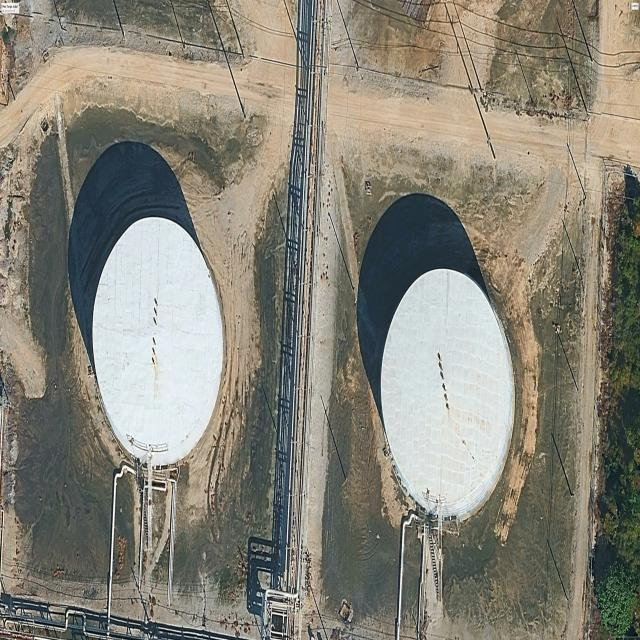Oil Rafinery: (381, 269, 514, 519), (92, 217, 223, 465)
